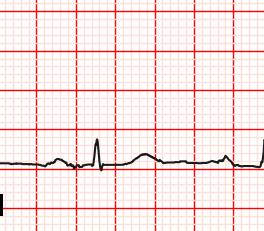LVH: (130, 147, 164, 168)
Poor R Progression: (90, 136, 104, 173)
